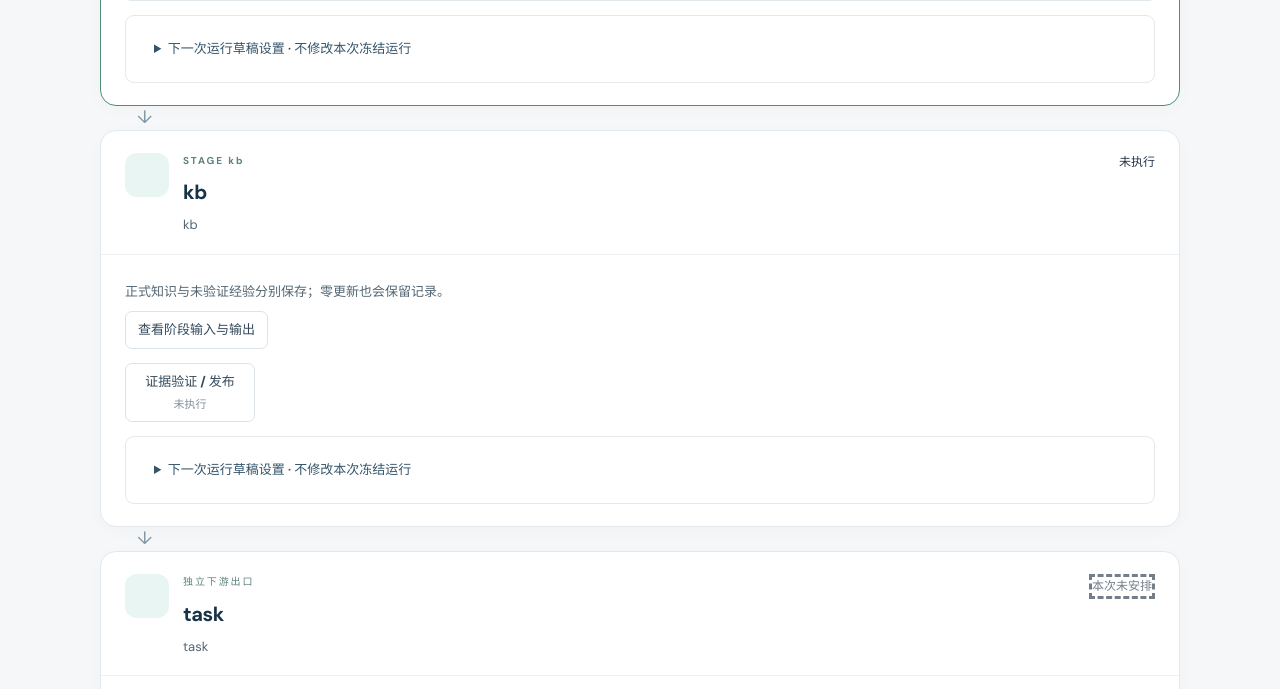
Scenario: shows frozen empirical lessons and provenance separately from verified scientific knowledge
(page scrolled)
What coordinates should you click on to do the following:
click the button with aria-label "查看 kb"
I would click on:
 (196, 330)
Its box is [125,311,268,349].
(page scrolled)
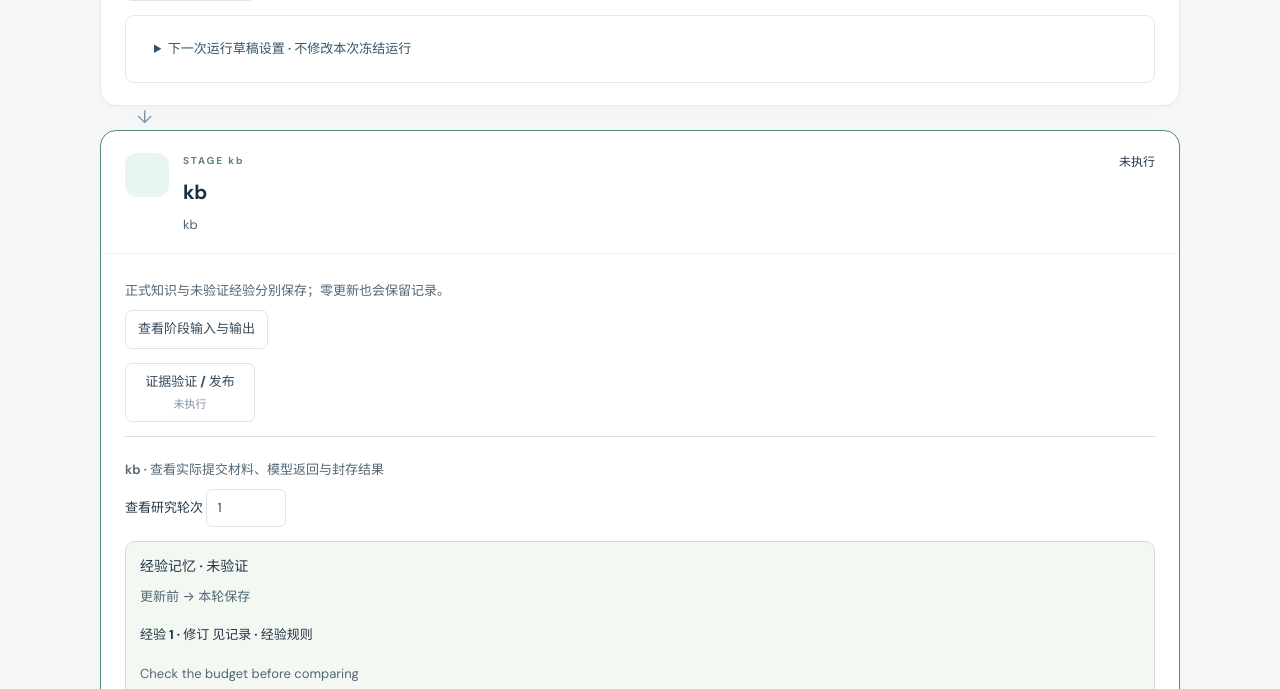
Check: the text "Check the budget before comparing" is shown, box [140,664,359,682]
Check: the heading "经验记忆 · 未验证" is shown, box [140,557,248,575]
